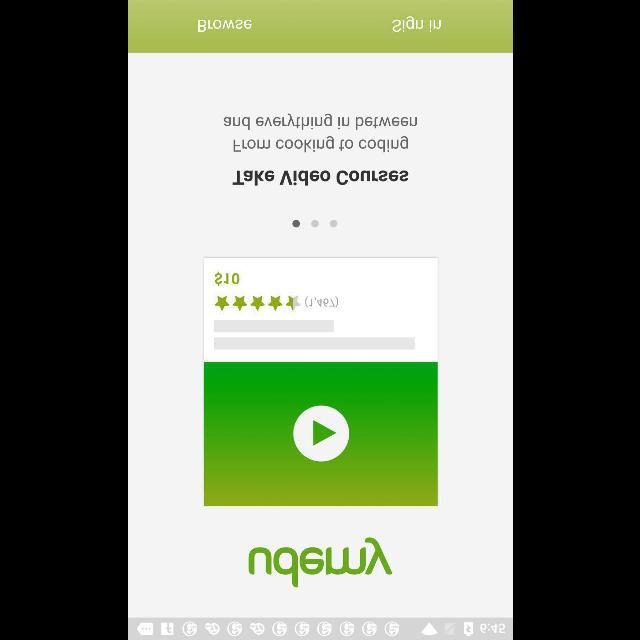image: (202, 258, 438, 507)
pageindicator: (291, 220, 337, 228)
text: (223, 114, 417, 152), (247, 538, 391, 588), (232, 170, 408, 186)
textbutton: (128, 0, 320, 52), (320, 0, 512, 52)
uppertaskbar: (128, 617, 512, 639)
